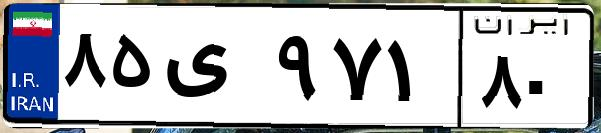0: (525, 38, 570, 115)
1: (385, 28, 445, 110)
5: (110, 28, 158, 98)
7: (330, 28, 385, 110)
8: (57, 26, 110, 100), (475, 38, 525, 113)
9: (270, 28, 330, 110)
ی: (158, 20, 270, 120)
